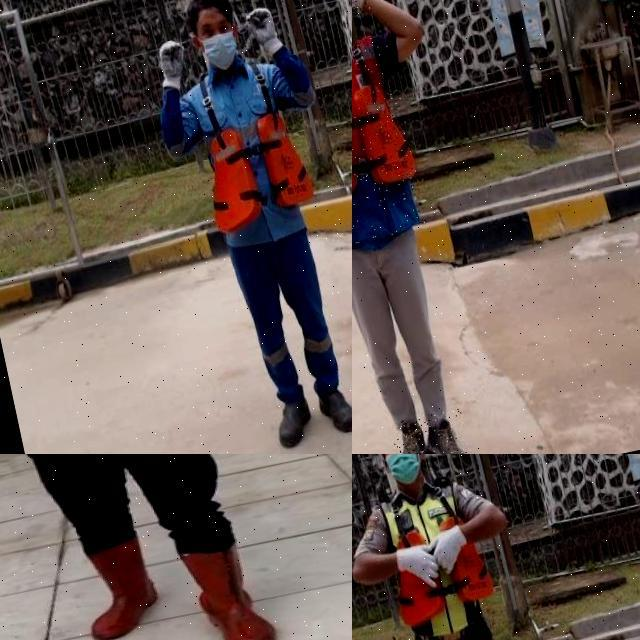boots: (178, 536, 282, 640), (72, 535, 167, 640), (268, 390, 318, 451), (419, 406, 476, 454), (314, 379, 352, 438), (389, 416, 434, 454)
vest: (185, 62, 321, 236), (378, 474, 504, 640), (352, 29, 428, 251)
